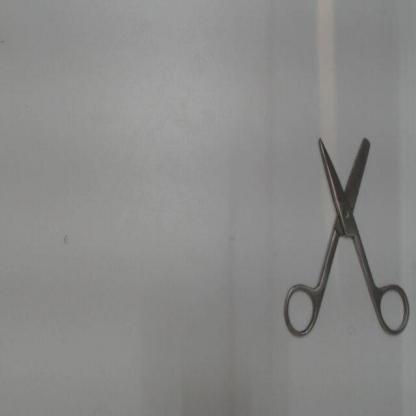Dressing Scissors: (278, 118, 414, 347)
